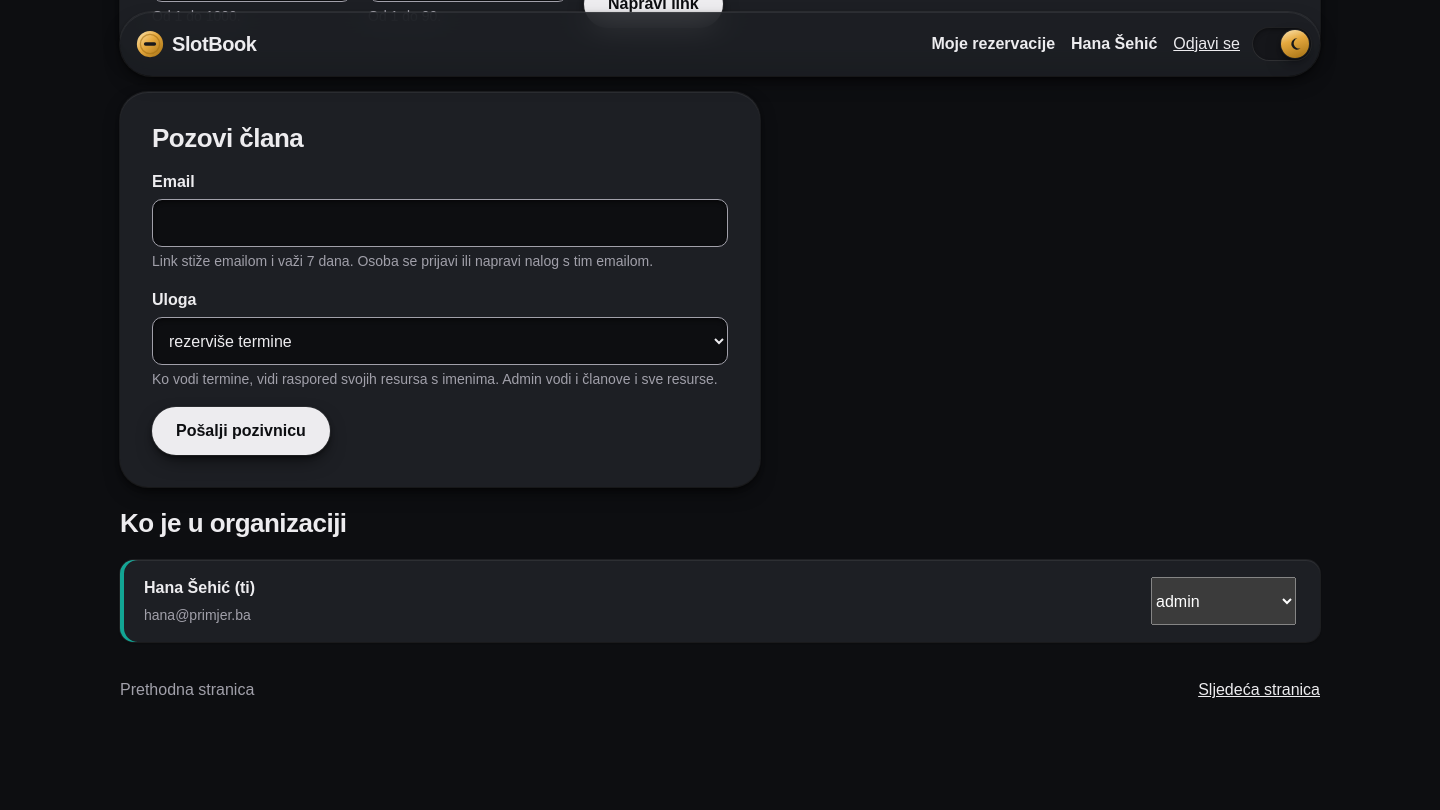
Test: lista članova › druga stranica je novi upit, a na zadnjoj se dalje ne može
(page scrolled)
Expected: the text "Hana Šehić" is shown, 144,579 -> 230,596
Click the button "Sljedeća stranica" at coordinates (1259, 690), box 1198,666 -> 1320,714
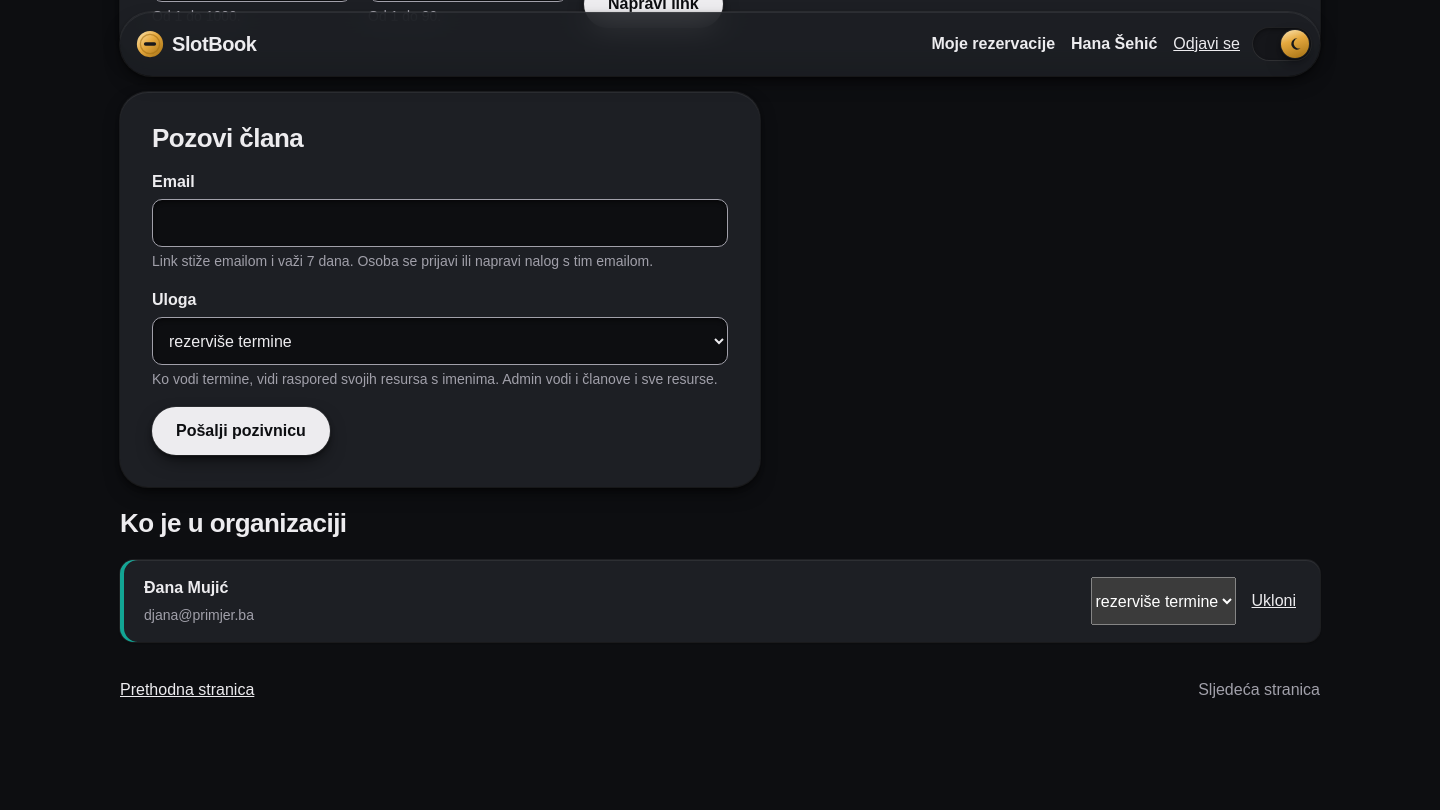
Now the text "Đana Mujić" is shown, box 144,579 -> 228,596
Now the button "Sljedeća stranica" is disabled, box 1198,666 -> 1320,714
